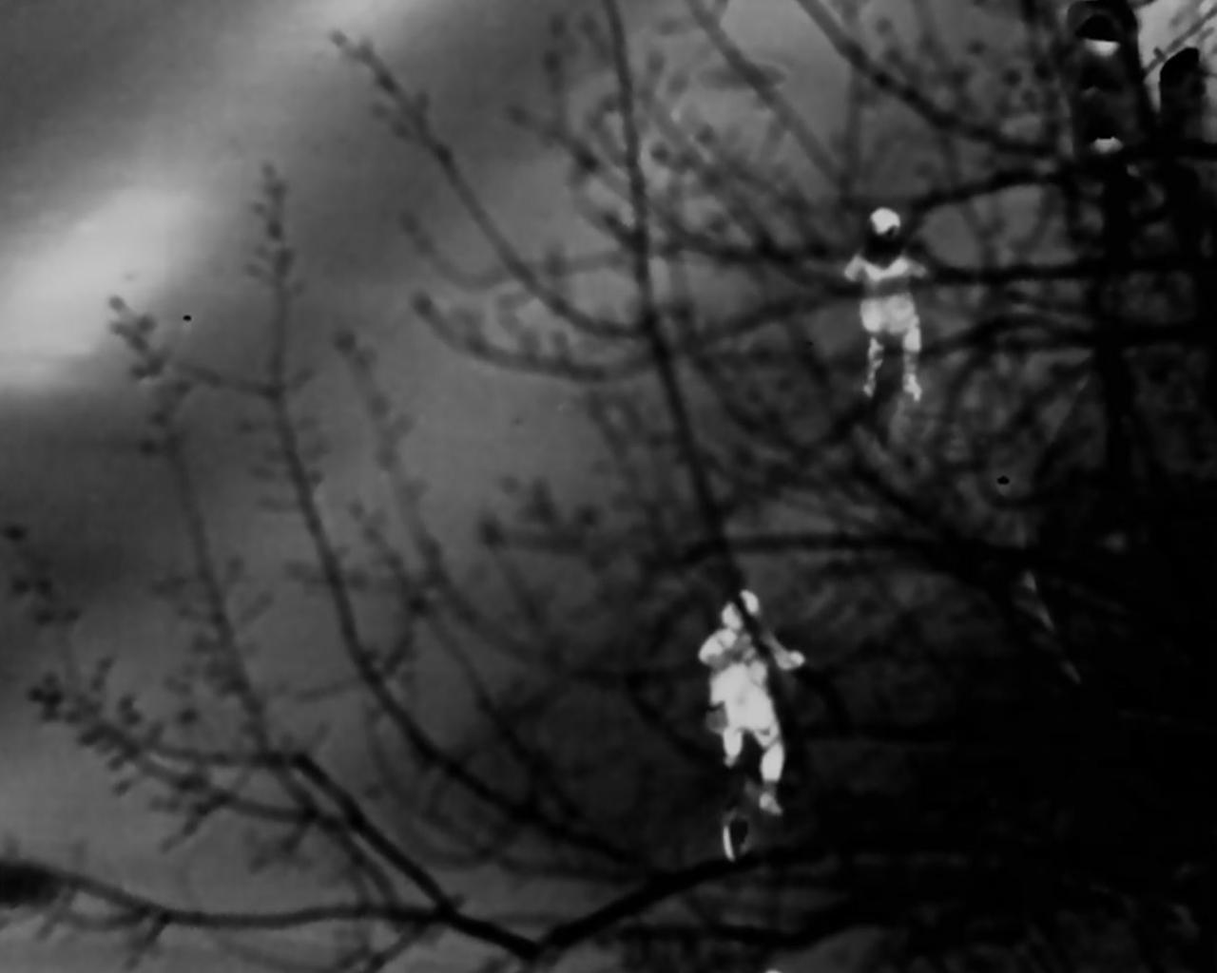person: (699, 582, 808, 842), (844, 201, 932, 407)
